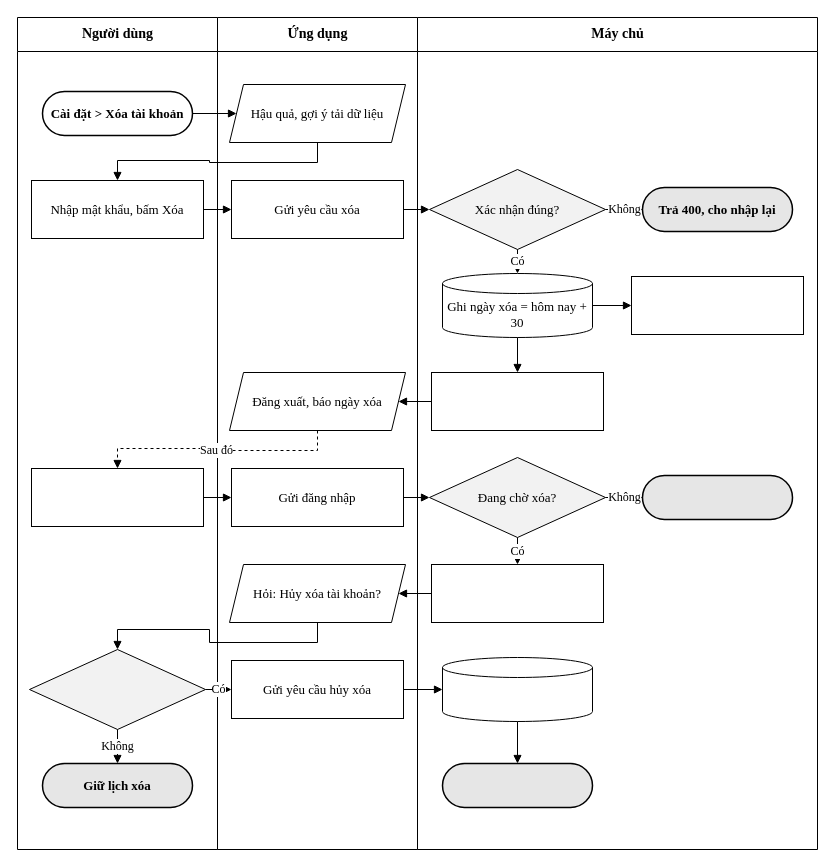
Some shapes in this 835 by 867 pixel diagram are drawn without their labels. The shapes that lost their labels are listed below. From the top down, each one's centre as x and y in pixels, then its label:
At [717,305]: "Email: ngày xóa, cách hủy".
At [517,401]: "Ẩn hồ sơ, nội dung; thu hồi phiên".
At [117,497]: "Trong 30 ngày: đăng nhập lại".
At [717,497]: "Đăng nhập bình thường".
At [517,593]: "Trả mã: tài khoản chờ xóa".
At [117,689]: "Hủy xóa?".
At [517,689]: "Bỏ ngày xóa, hiện lại nội dung".
At [517,785]: "Cấp phiên, vào app".
